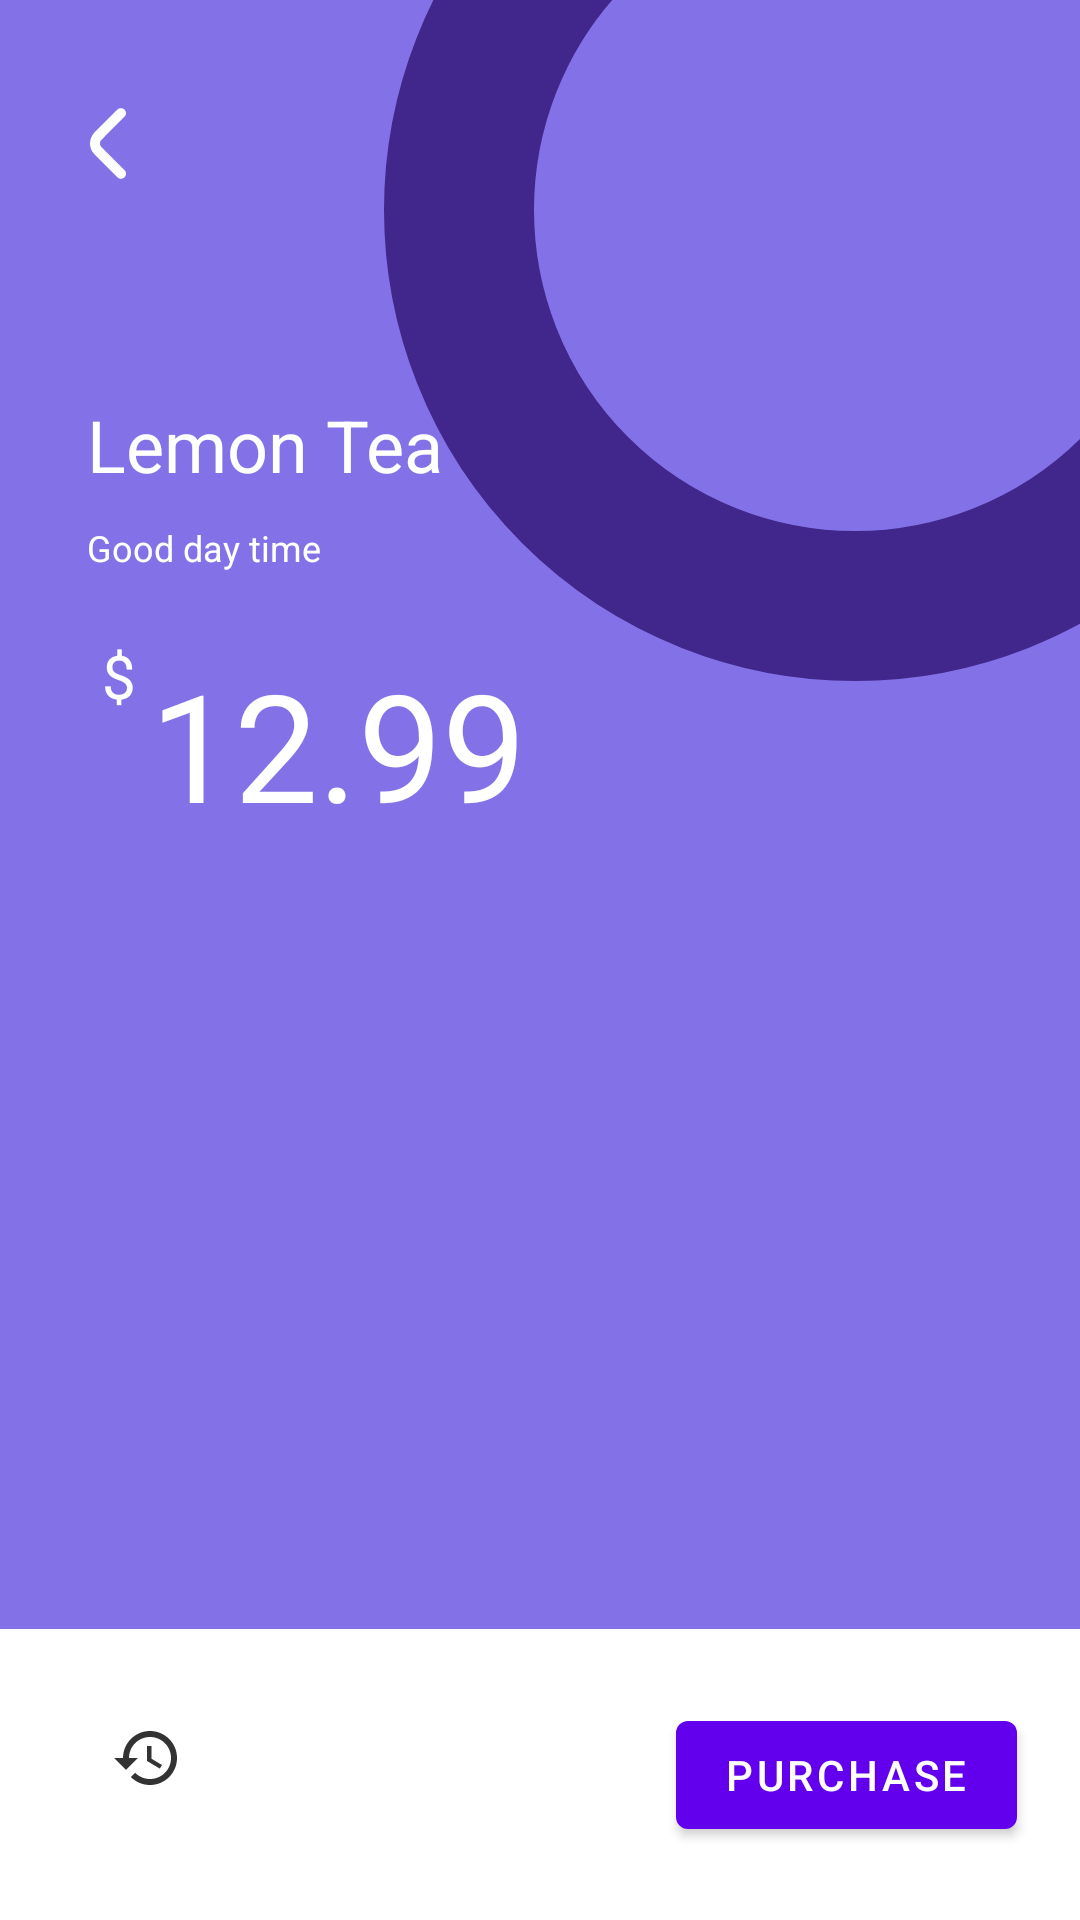

Named icons in this screenshot (1080x1920) and their bounding boxes, detection(x1, y1, x2, y2):
back: detection(90, 108, 126, 179)
history: detection(114, 1731, 177, 1785)
